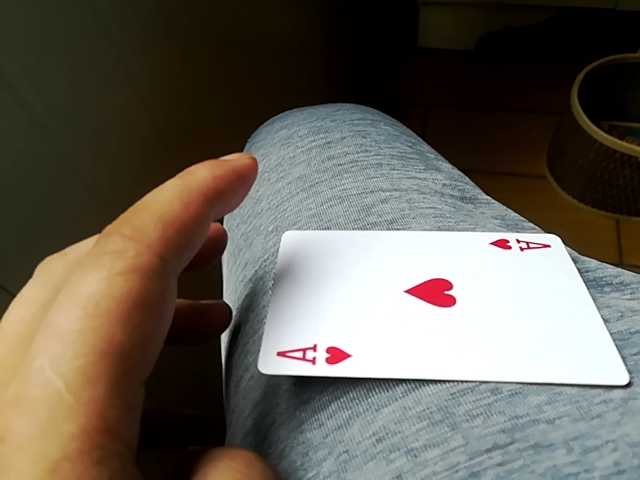hx a: (253, 229, 625, 386)
